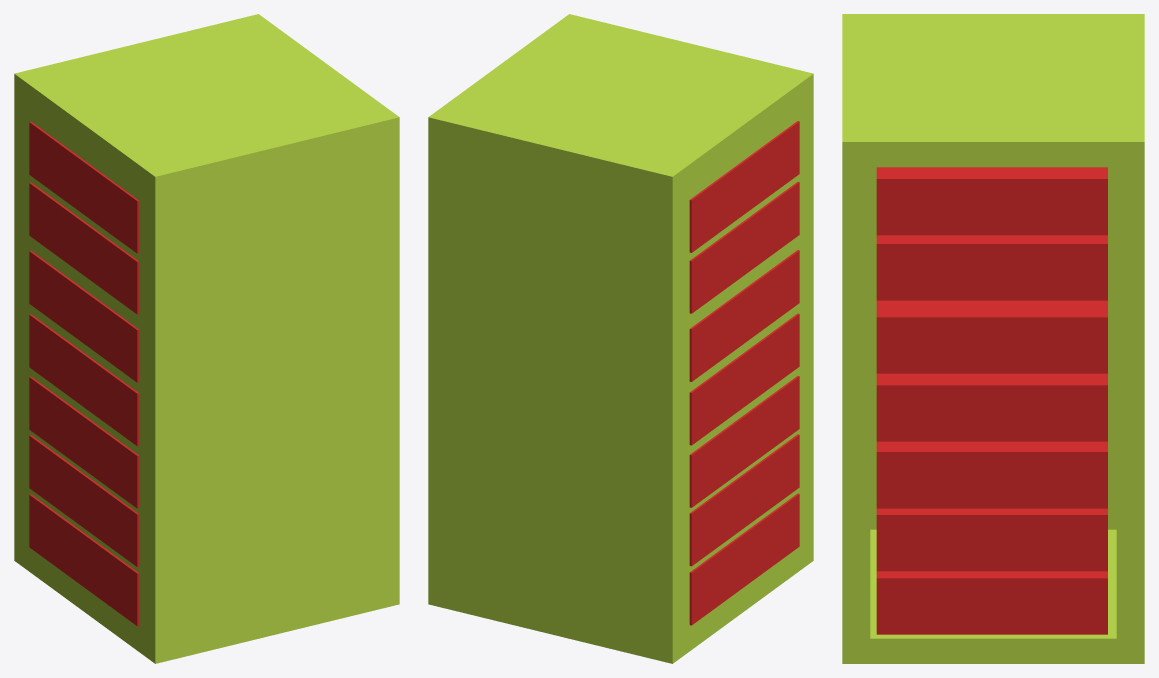
3 renders of one model, left to right at view 1: azimuth 30°, elevation 25°; view 2: azimuth 150°, elevation 25°; view 3: azimuth 270°, elevation 25°, orthographic. The views are drawn at different scales.
Parts seen in each view (by area): view 1: Skap, Cube4, Cube6, Cube5, Cube2, Cube7, Cube3, Cube1; view 2: Skap, Cube7, Cube6, Cube4, Cube3, Cube5, Cube2, Cube1; view 3: Skap, Cube3, Cube4, Cube1, Cube5, Cube2, Cube7, Cube6.
Part boxes in pixels (bbox=[...]): Skap: bbox=[14, 14, 399, 663]; Cube4: bbox=[29, 314, 139, 446]; Cube6: bbox=[29, 435, 139, 567]; Cube5: bbox=[29, 376, 139, 508]; Cube2: bbox=[29, 182, 139, 314]; Cube7: bbox=[29, 494, 139, 626]; Cube3: bbox=[29, 250, 139, 382]; Cube1: bbox=[29, 121, 139, 253]; Skap: bbox=[428, 14, 813, 663]; Cube7: bbox=[689, 493, 799, 625]; Cube6: bbox=[689, 434, 799, 566]; Cube4: bbox=[689, 313, 799, 445]; Cube3: bbox=[689, 250, 799, 381]; Cube5: bbox=[689, 376, 799, 507]; Cube2: bbox=[689, 182, 799, 313]; Cube1: bbox=[689, 121, 799, 252]; Skap: bbox=[842, 14, 1144, 663]; Cube3: bbox=[876, 300, 1107, 373]; Cube4: bbox=[876, 373, 1107, 441]; Cube1: bbox=[876, 167, 1107, 235]; Cube5: bbox=[876, 441, 1107, 508]; Cube2: bbox=[876, 235, 1107, 300]; Cube7: bbox=[876, 571, 1107, 634]; Cube6: bbox=[876, 508, 1107, 571].
Bounding box in the file's own units: 2.02 × 3.81 × 2.
